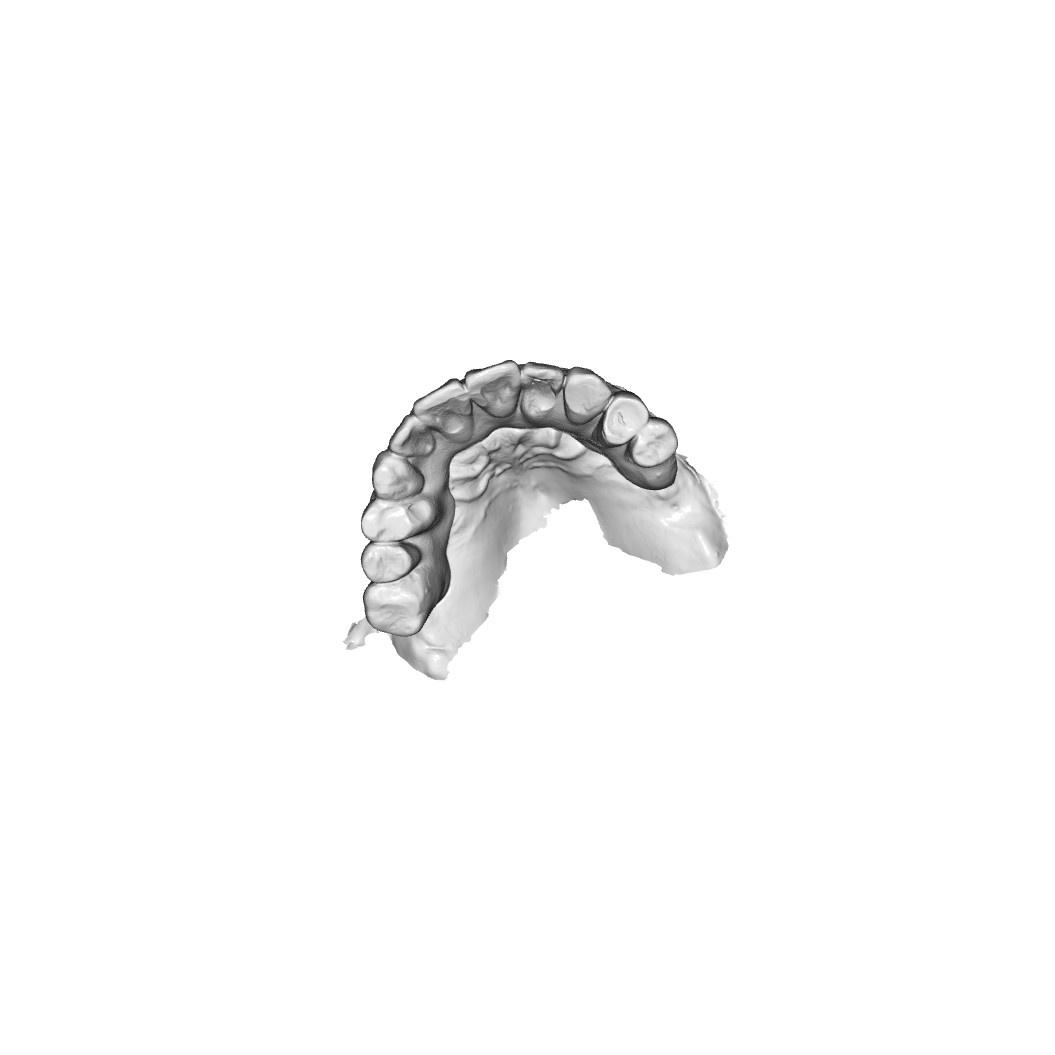canine: (561, 365, 614, 429), (367, 452, 422, 497)
incisor: (461, 356, 522, 420), (411, 376, 473, 438), (518, 360, 567, 416), (387, 411, 432, 457)
molar: (363, 576, 433, 638)
premolar: (598, 389, 648, 446), (628, 413, 676, 472), (360, 538, 420, 584), (359, 498, 419, 543)
